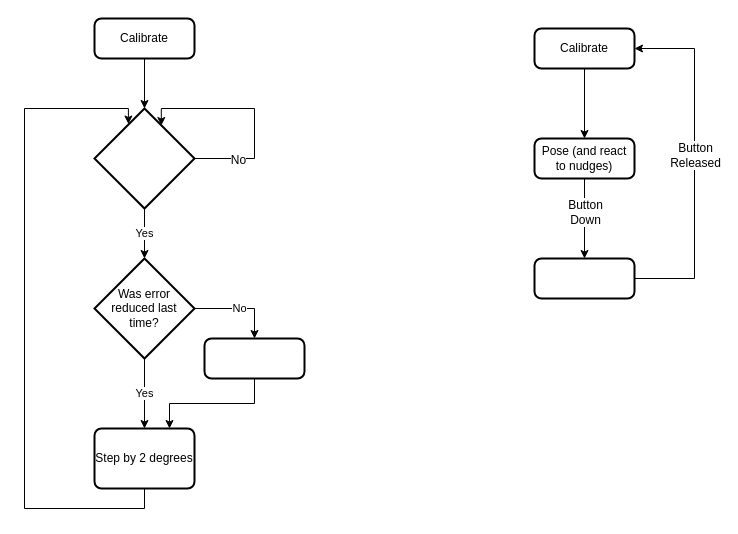
Some shapes in this 738 by 534 pixel diagram are drawn without their labels. The shapes that lost their labels are listed below. From the top down, each one's centre as x and y in pixels, then its label:
At point (144, 158): "Current out of spec?".
At point (584, 278): "Hold Pose no matter what".
At point (254, 358): "Flip direction".
